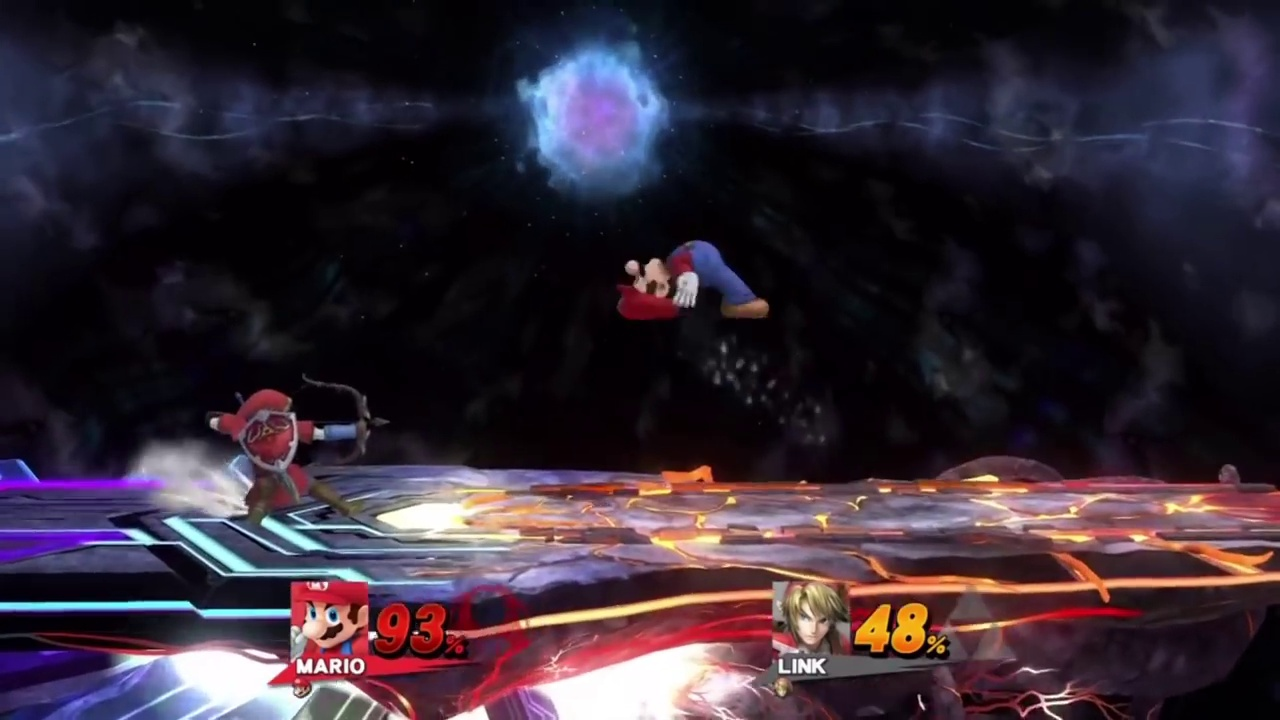Mario: (608, 235, 771, 328)
